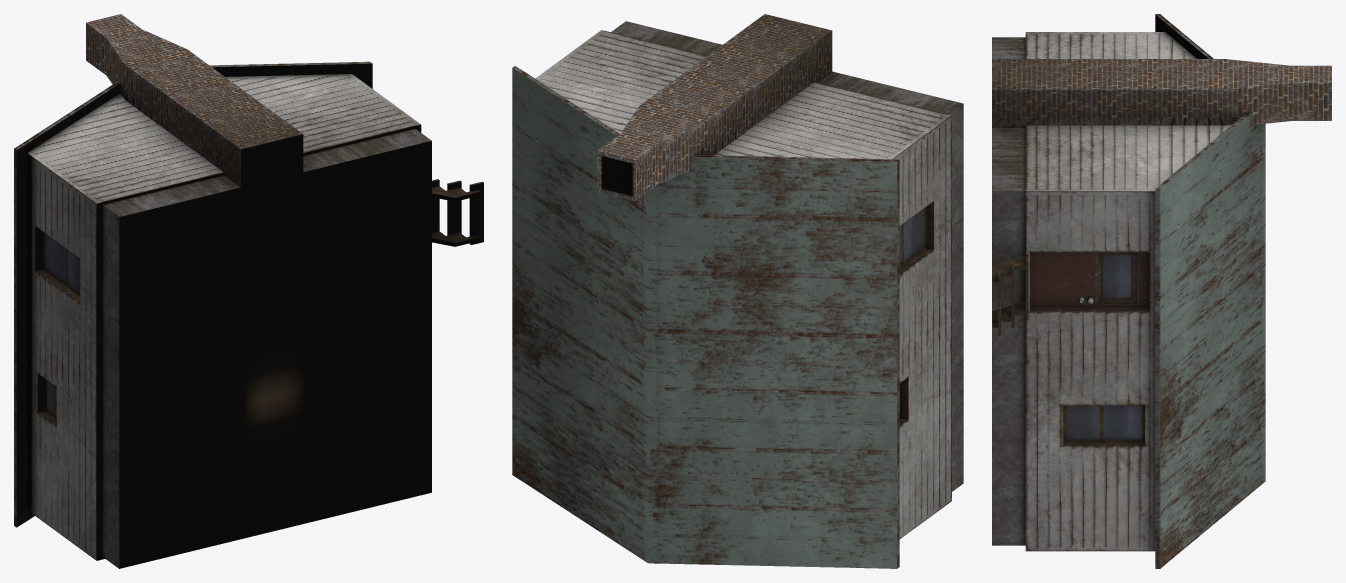
The model's file is house.fbx.
The picture shows the model from 3 angles, left to right: view 1: azimuth 30°, elevation 25°; view 2: azimuth 150°, elevation 25°; view 3: azimuth 270°, elevation 25°; orthographic projection. The views are drawn at different scales.
Parts seen in each view (by area): view 1: Object001; view 2: Object001; view 3: Object001.
Boxes of the visible parts, box(x1,y1,x2,y2) form: Object001: box(14, 14, 483, 568); Object001: box(512, 14, 963, 568); Object001: box(992, 14, 1331, 568).
Bounding box in the file's own units: 2426 × 2398 × 1821.
Materials: 1 (1 with a texture image).
